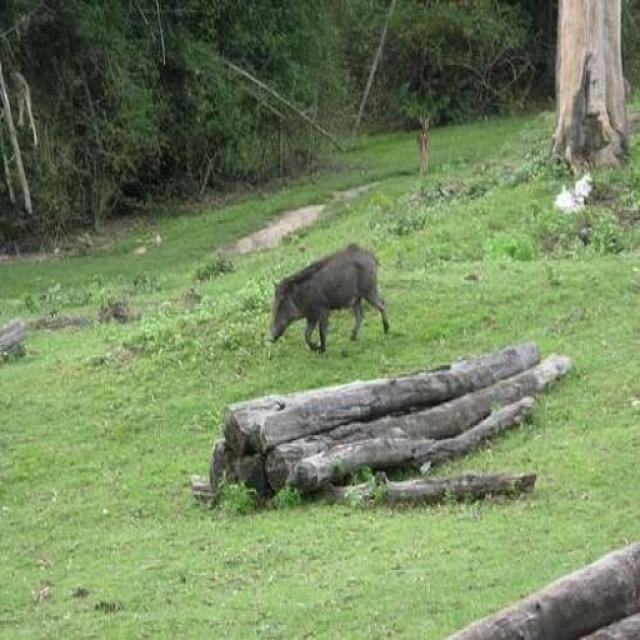pig: (254, 227, 416, 341)
